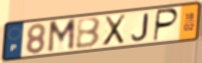8: (25, 22, 47, 55)
B: (75, 16, 102, 50)
J: (131, 12, 150, 42)
M: (46, 17, 77, 55)
P: (152, 7, 180, 43)
X: (101, 13, 127, 48)
